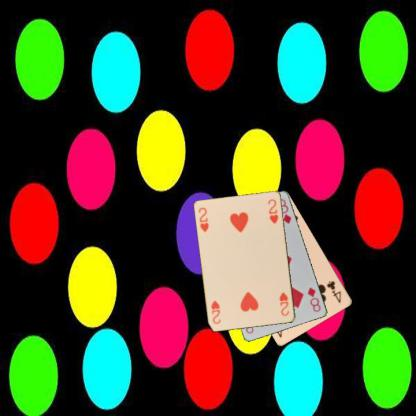2h: (196, 205, 210, 234), (277, 290, 290, 317)
4c: (324, 278, 343, 304)
8d: (305, 285, 322, 313)
